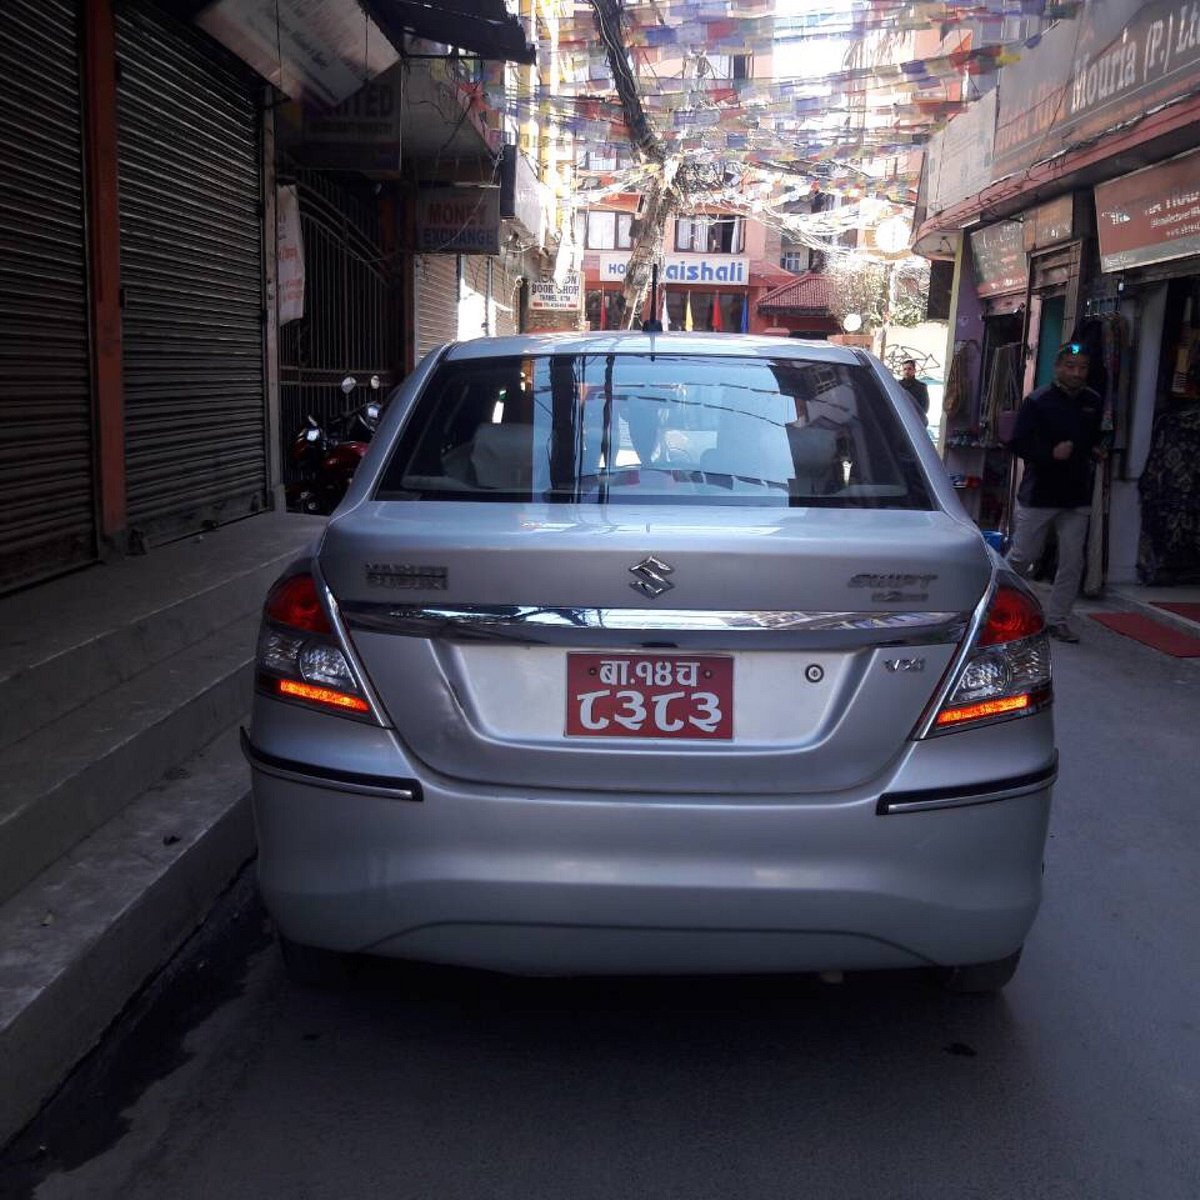number plate: (565, 647, 734, 740)
